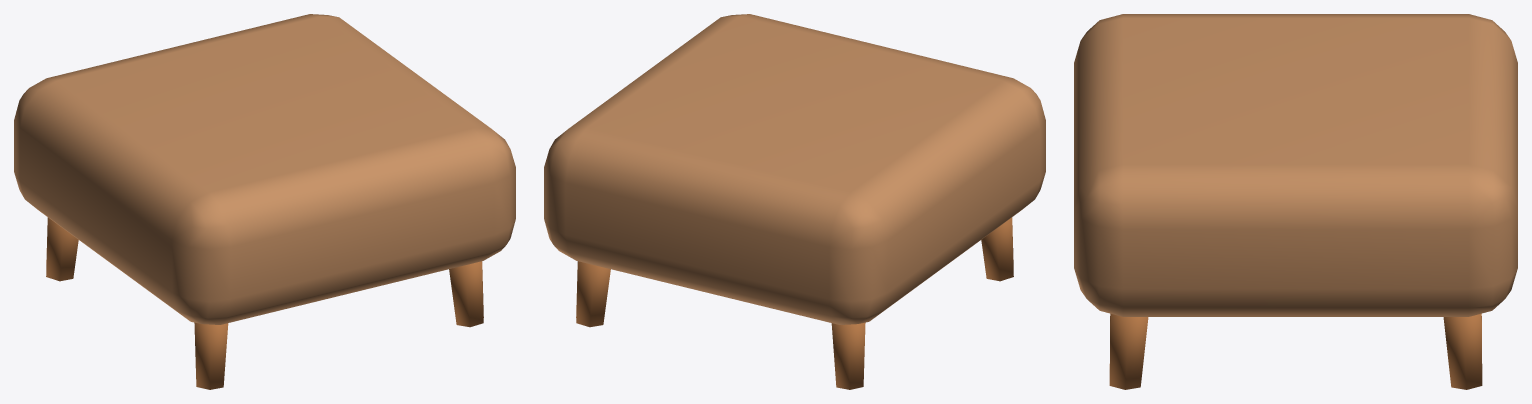
Rendered from ottoman.glb.
3 renders of one model, left to right at view 1: azimuth 30°, elevation 25°; view 2: azimuth 150°, elevation 25°; view 3: azimuth 270°, elevation 25°, orthographic. The views are drawn at different scales.
Visible parts, largest first — view 1: ottoman_body, ottoman_leg_-0.325_-0.325, ottoman_leg_0.325_-0.325, ottoman_leg_-0.325_0.325; view 2: ottoman_body, ottoman_leg_-0.325_0.325, ottoman_leg_0.325_0.325, ottoman_leg_-0.325_-0.325; view 3: ottoman_body, ottoman_leg_0.325_0.325, ottoman_leg_0.325_-0.325.
Part boxes in pixels (x1=…): ottoman_body: x1=14, y1=14, x2=515, y2=324; ottoman_leg_-0.325_-0.325: x1=194, y1=322, x2=228, y2=389; ottoman_leg_0.325_-0.325: x1=449, y1=261, x2=483, y2=327; ottoman_leg_-0.325_0.325: x1=46, y1=217, x2=78, y2=281; ottoman_body: x1=544, y1=14, x2=1045, y2=324; ottoman_leg_-0.325_0.325: x1=831, y1=322, x2=865, y2=389; ottoman_leg_0.325_0.325: x1=576, y1=261, x2=610, y2=327; ottoman_leg_-0.325_-0.325: x1=981, y1=217, x2=1013, y2=281; ottoman_body: x1=1074, y1=14, x2=1517, y2=316; ottoman_leg_0.325_0.325: x1=1443, y1=313, x2=1482, y2=389; ottoman_leg_0.325_-0.325: x1=1109, y1=313, x2=1148, y2=389.
Bounding box in the file's own units: 0.87 × 0.4776 × 0.87.
